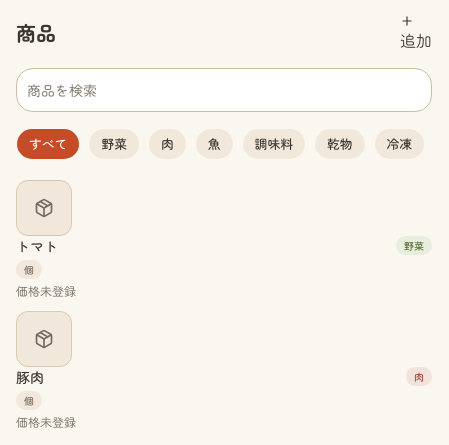
Test: ProductListClient › WC-P-04: カテゴリボタンクリックでカテゴリフィルタリングされる
The image size is (449, 445).
Click the button "肉" at (167, 144), box [148,128,187,160]
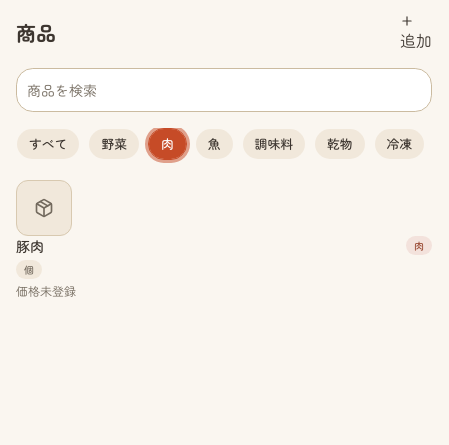
Expected: the text "豚肉" is shown, [16,236,44,256]
Result: the link "トマト" is gone
